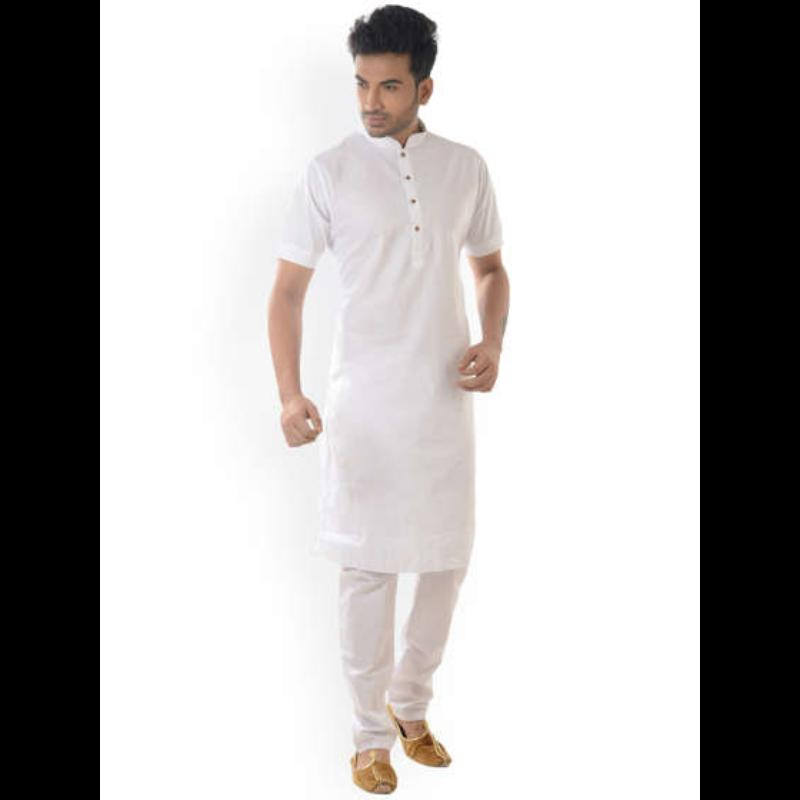Pant: (337, 594, 455, 736)
kurta: (288, 161, 500, 579)
